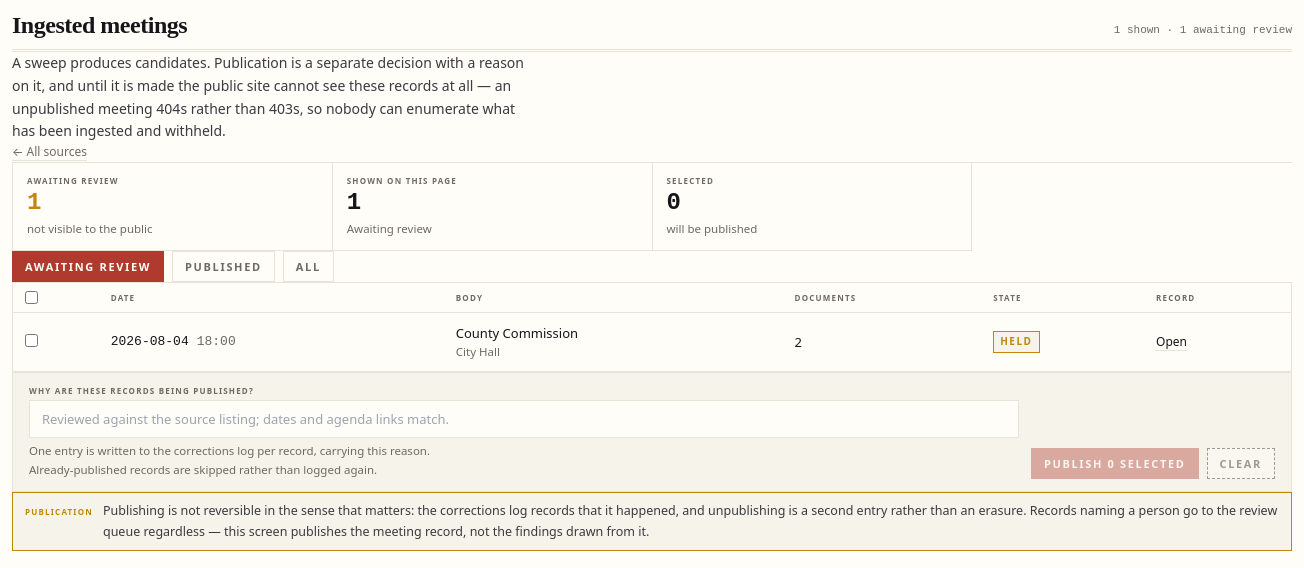
it: the ingested-meetings screen › refuses to publish without a reason
The width and height of the screenshot is (1304, 568).
Click the checkbox with test id "select-m1" at (32, 340), box [25,334,38,347]
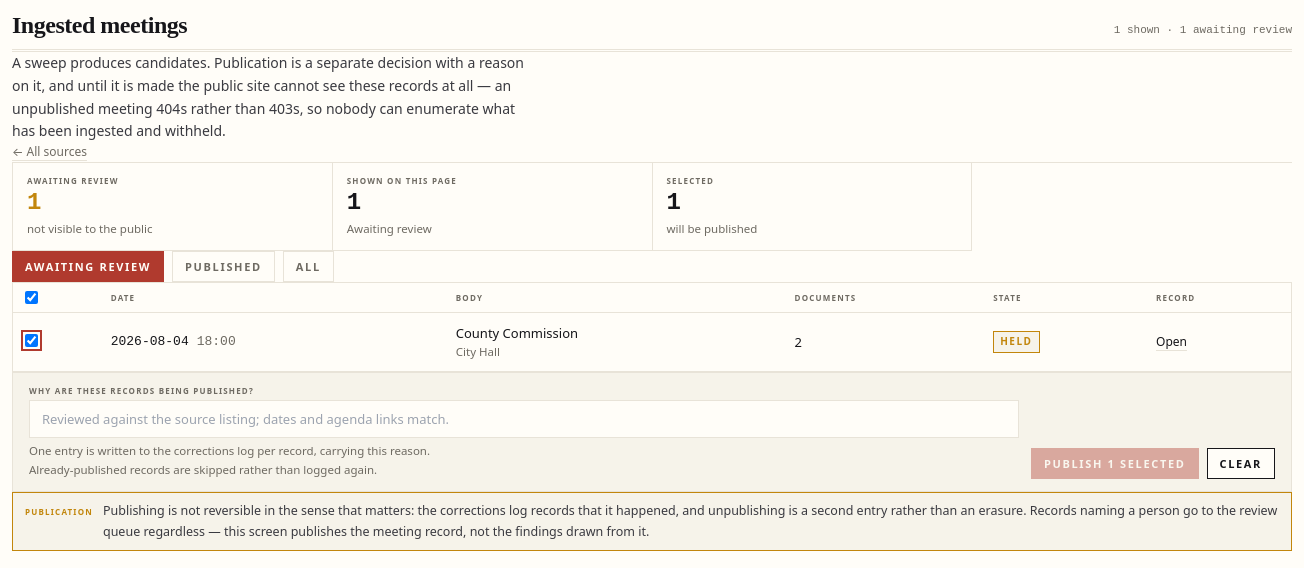
Expected: the button with test id "publish-selected" is disabled, [1031,448,1198,479]
Type "Reviewed." into the field labelled "Why are these records being published?" at (524, 419), box [29,400,1019,438]
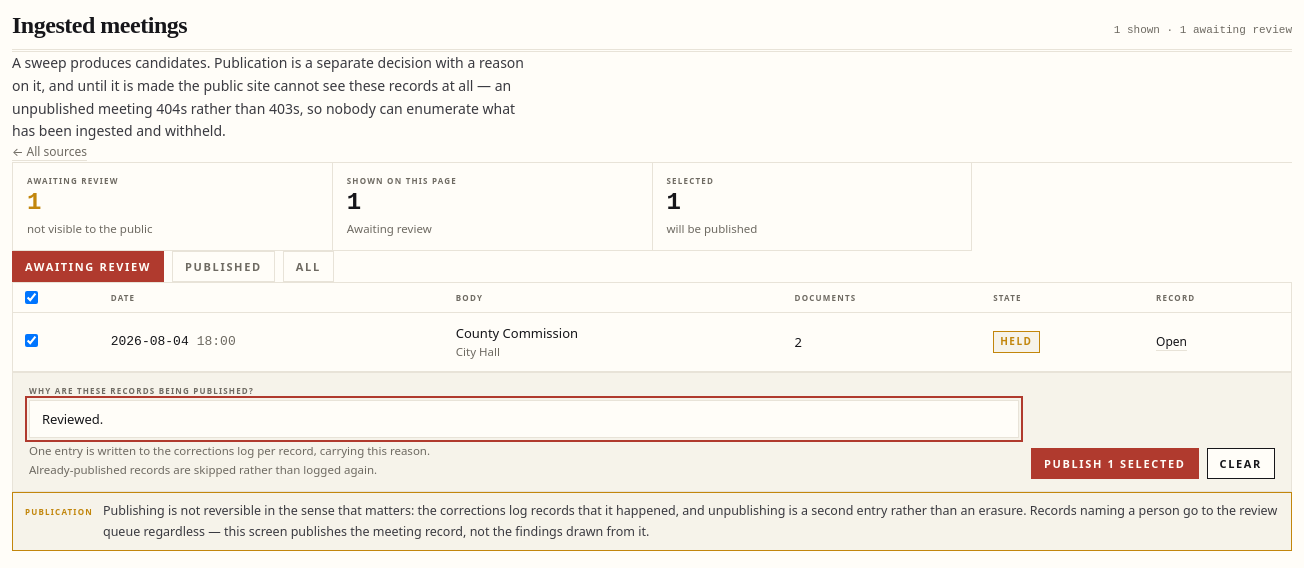
Result: the button with test id "publish-selected" is enabled at [1031,448,1198,479]
